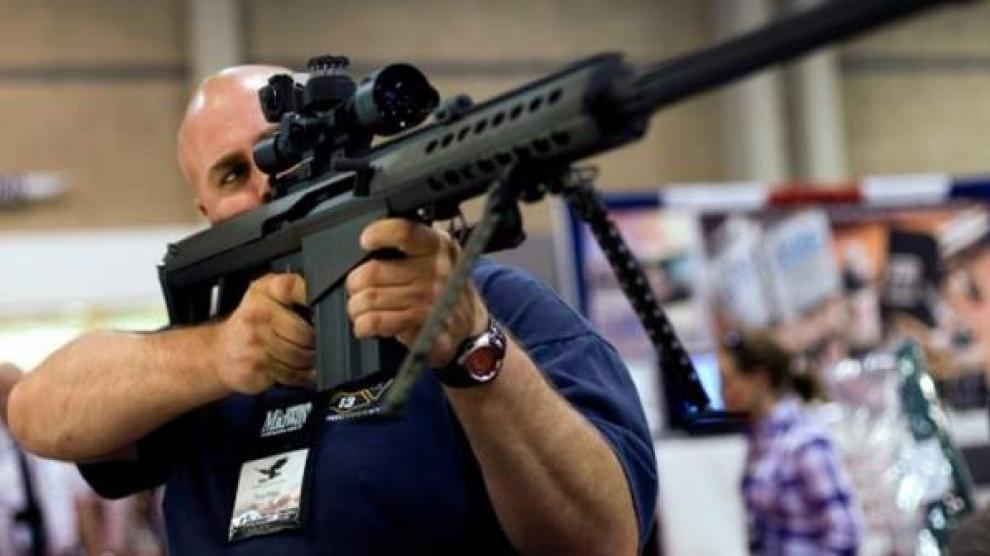larga: (154, 0, 984, 413)
